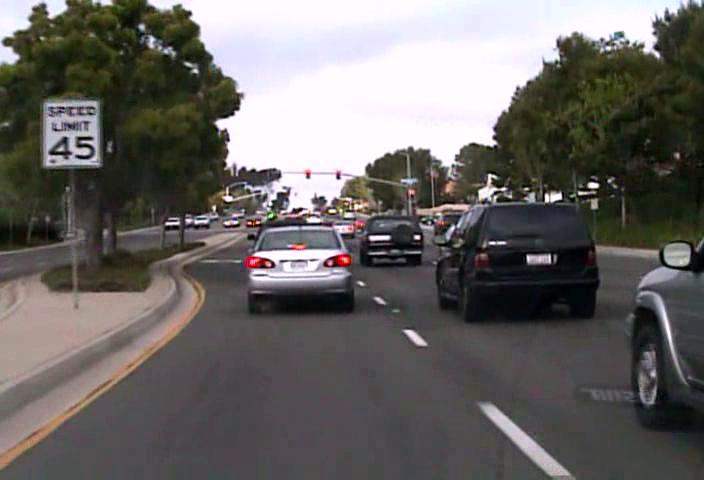speedLimit45: (40, 96, 102, 168)
